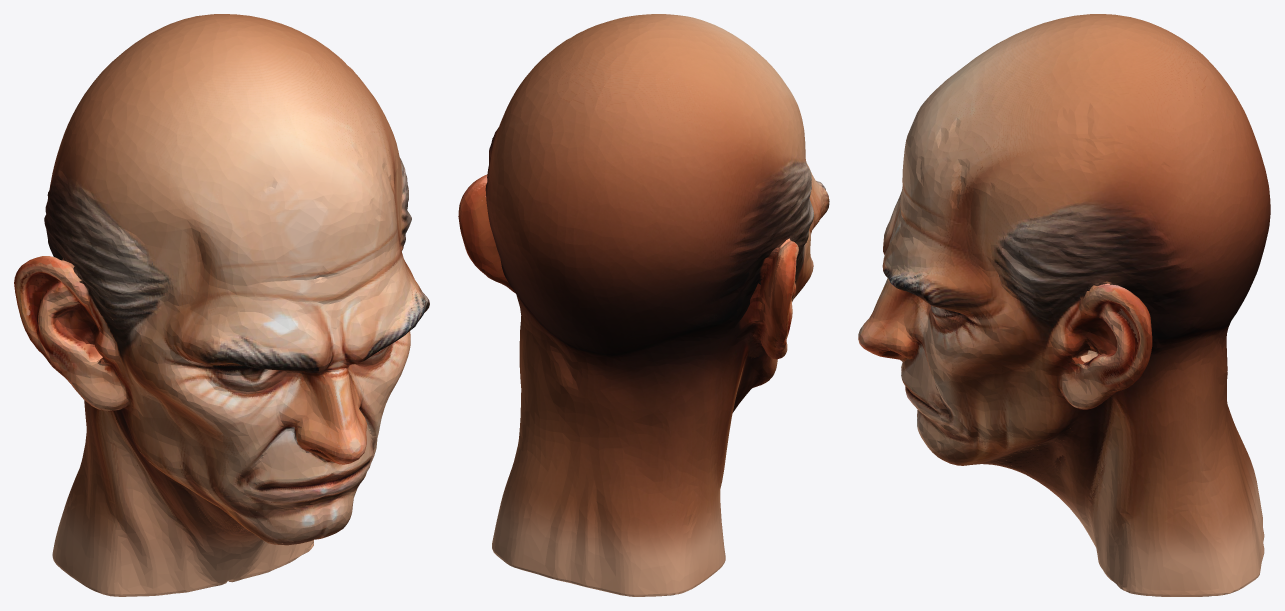
The model's file is side_togawa_repaired_atlas.glb.
3 views of the same model, side by side, from view 1: azimuth 30°, elevation 25°; view 2: azimuth 150°, elevation 25°; view 3: azimuth 270°, elevation 25° (orthographic). The views are drawn at different scales.
Parts seen in each view (by area): view 1: temp_mesh.ply; view 2: temp_mesh.ply; view 3: temp_mesh.ply.
Part boxes in pixels (<box>): temp_mesh.ply: <box>14,14,429,596</box>; temp_mesh.ply: <box>458,14,829,596</box>; temp_mesh.ply: <box>858,14,1270,596</box>.
Size of the model in its own units: 0.9851 by 1.4 by 1.01.
Materials: 1 (1 with a texture image).
